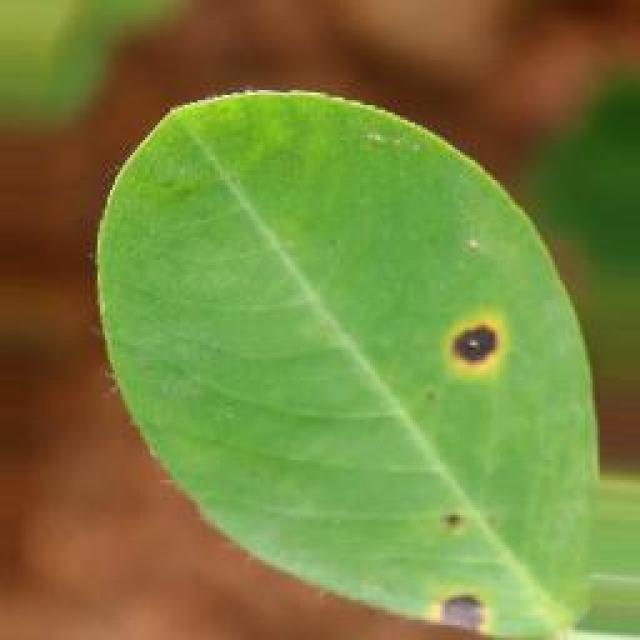Sigatoka: (416, 288, 514, 392), (420, 575, 512, 640), (425, 484, 479, 550)
